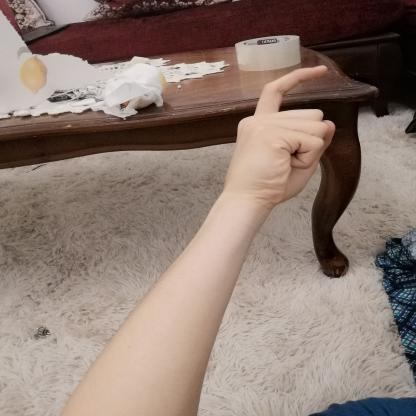RAA: (216, 55, 347, 213)
